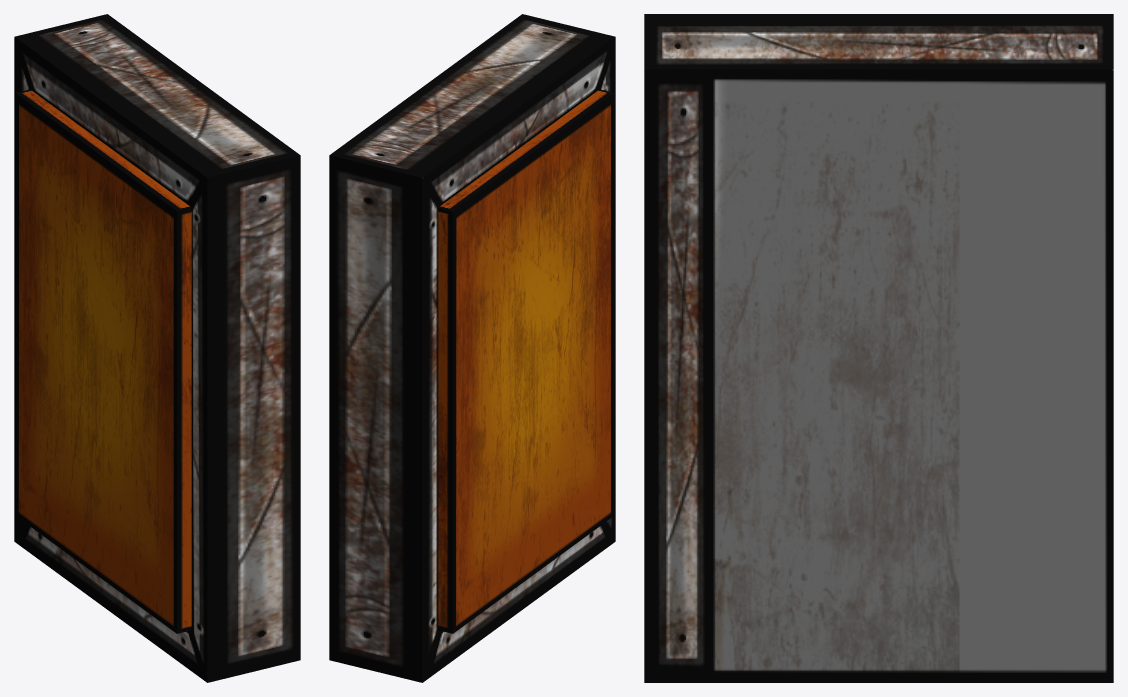
The model's file is Knop animatie.fbx.
3 renders of one model, left to right at view 1: azimuth 30°, elevation 25°; view 2: azimuth 150°, elevation 25°; view 3: azimuth 270°, elevation 25°, orthographic. The views are drawn at different scales.
Parts seen in each view (by area): view 1: polySurface3, polySurface4; view 2: polySurface3, polySurface4; view 3: polySurface3.
Boxes of the visible parts, x1=… form: polySurface3: x1=14, y1=14, x2=300, y2=682; polySurface4: x1=15, y1=89, x2=191, y2=633; polySurface3: x1=329, y1=14, x2=615, y2=682; polySurface4: x1=438, y1=89, x2=614, y2=633; polySurface3: x1=644, y1=14, x2=1113, y2=682.
Bounding box in the file's own units: 0.1618 × 0.7243 × 0.5017.
